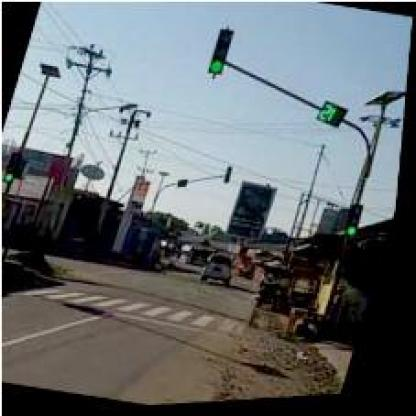green: (205, 25, 238, 78), (346, 204, 368, 239)
